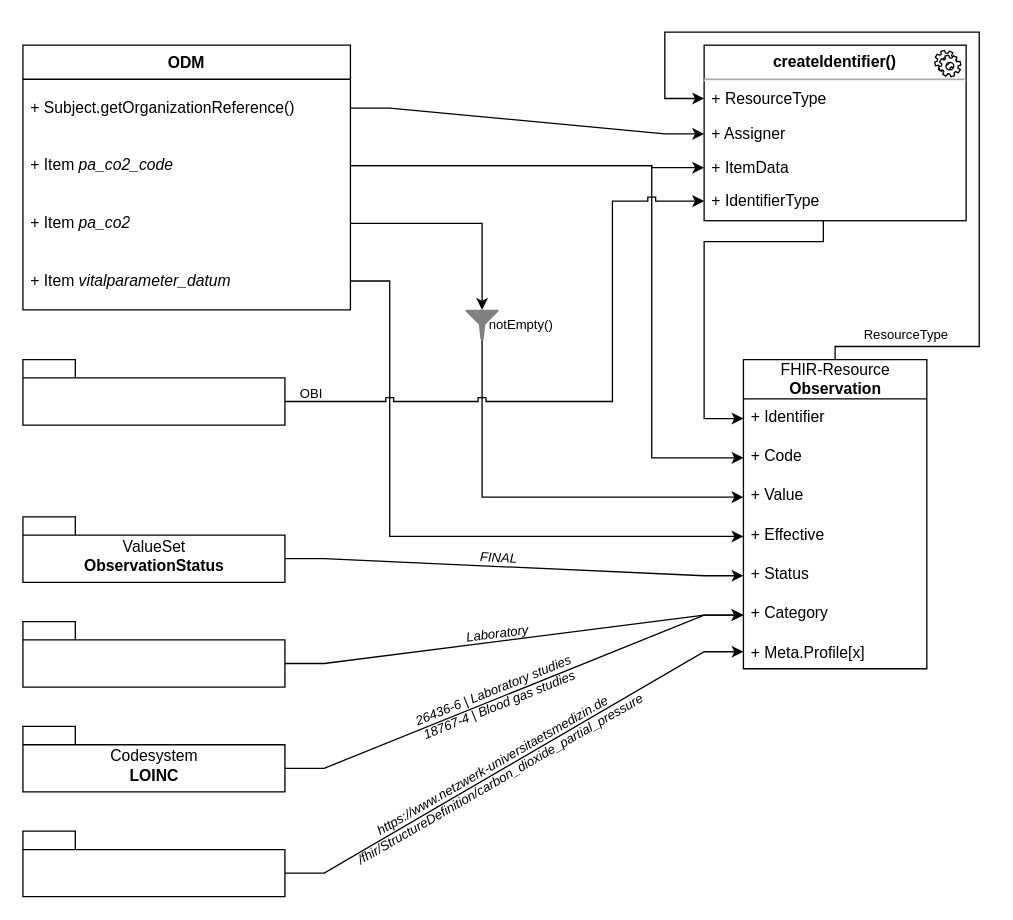
This 1013x920 diagram has some shape labels left out. The centre of each missing label's shape, as x and y in pixels:
GECCO Profiles: (153,863)
ValueSet IdentifierTypeCodes: (153,391)
ValueSet ObservationCategoryCodes: (153,653)
